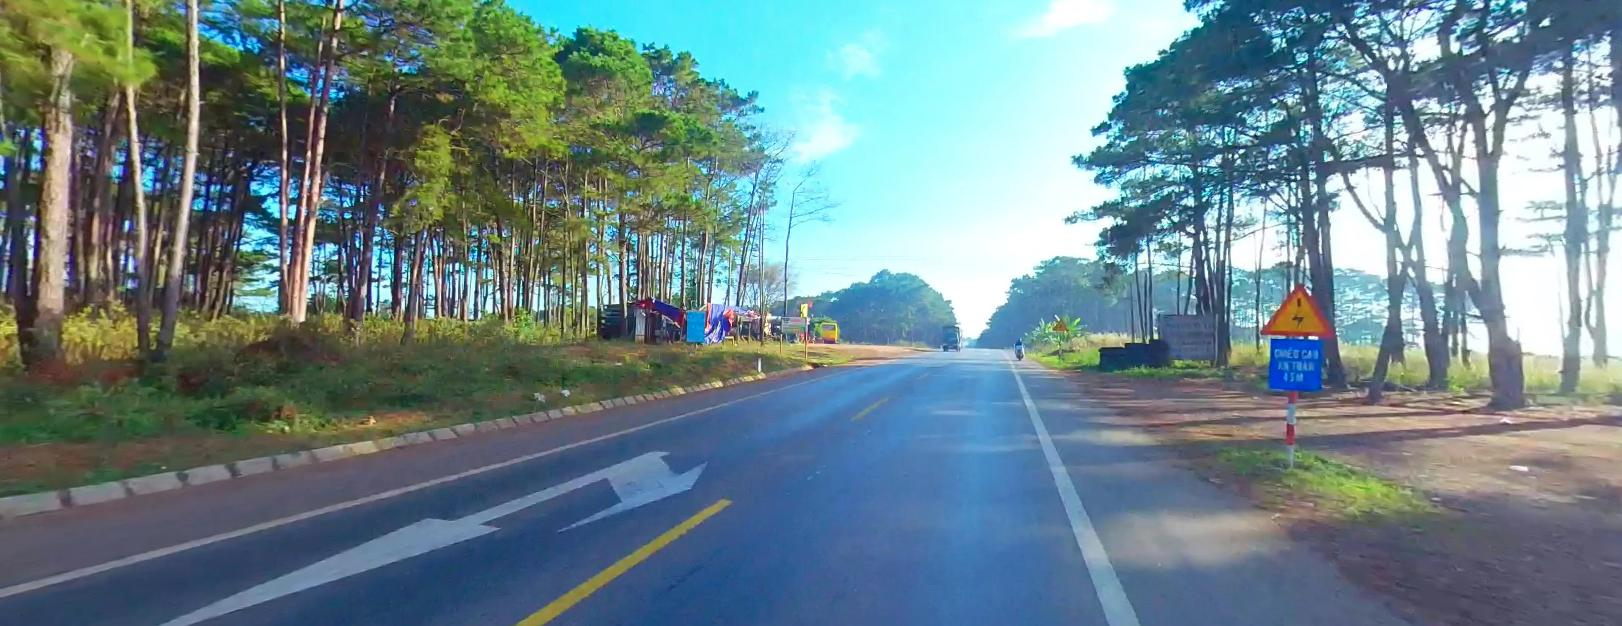Nguy hiem: (1259, 276, 1335, 340), (1051, 316, 1067, 328)
